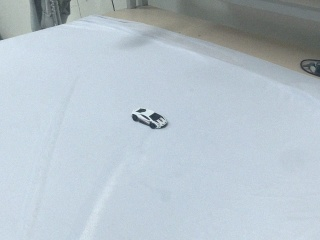toy_car: (132, 108, 168, 130)
